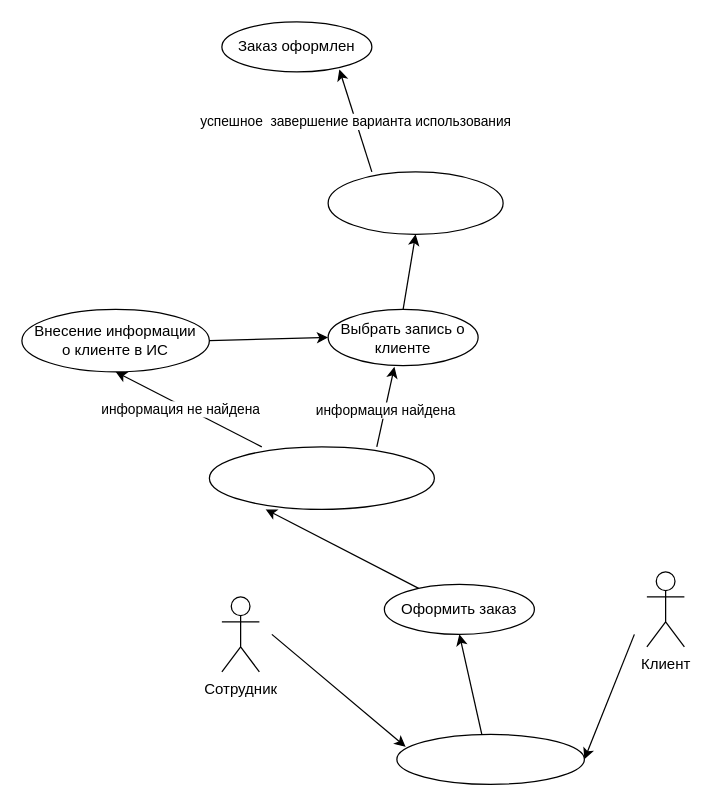
This 713x806 diagram has some shape labels left out. The shapes that lost their labels are listed below. From the top down, each one's centre as x and y in pixels, then its label:
(415,202): Внести информацию о заказе клиента в ИС
(321,477): Проверить наличие информации о клиенте в ИС
(490,758): Сделать заказ
